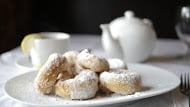burger: (180, 72, 190, 107)
pizza: (20, 32, 71, 68)
